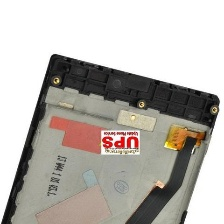phone: (0, 53, 221, 223)
